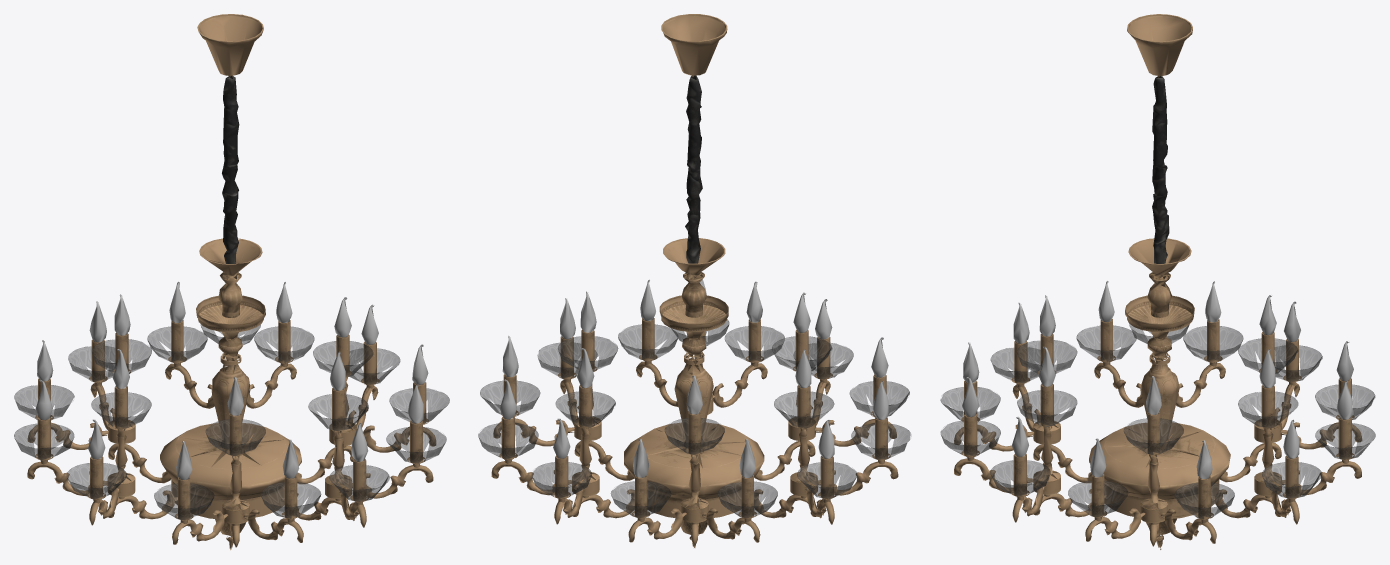
File: Chandelier_03_1k.glb
The picture shows the model from 3 angles, left to right: view 1: azimuth 30°, elevation 25°; view 2: azimuth 150°, elevation 25°; view 3: azimuth 270°, elevation 25°; orthographic projection.
Parts seen in each view (by area): view 1: Bogate_s_Beatrix_285x18_Strotskis_cristal_A_001000, Bogate_s_Beatrix_285x18_Strotskis_cristal_A_001000_1; view 2: Bogate_s_Beatrix_285x18_Strotskis_cristal_A_001000, Bogate_s_Beatrix_285x18_Strotskis_cristal_A_001000_1; view 3: Bogate_s_Beatrix_285x18_Strotskis_cristal_A_001000, Bogate_s_Beatrix_285x18_Strotskis_cristal_A_001000_1.
Boxes of the visible parts, x1,y1,x2,y2 form: Bogate_s_Beatrix_285x18_Strotskis_cristal_A_001000: (27, 14, 436, 550); Bogate_s_Beatrix_285x18_Strotskis_cristal_A_001000_1: (14, 324, 449, 519); Bogate_s_Beatrix_285x18_Strotskis_cristal_A_001000: (491, 14, 898, 547); Bogate_s_Beatrix_285x18_Strotskis_cristal_A_001000_1: (478, 319, 911, 518); Bogate_s_Beatrix_285x18_Strotskis_cristal_A_001000: (954, 14, 1362, 549); Bogate_s_Beatrix_285x18_Strotskis_cristal_A_001000_1: (940, 324, 1375, 518).
Bounding box in the file's own units: 0.7804 × 1.04 × 0.7855.
Materials: 2 (2 with a texture image).
